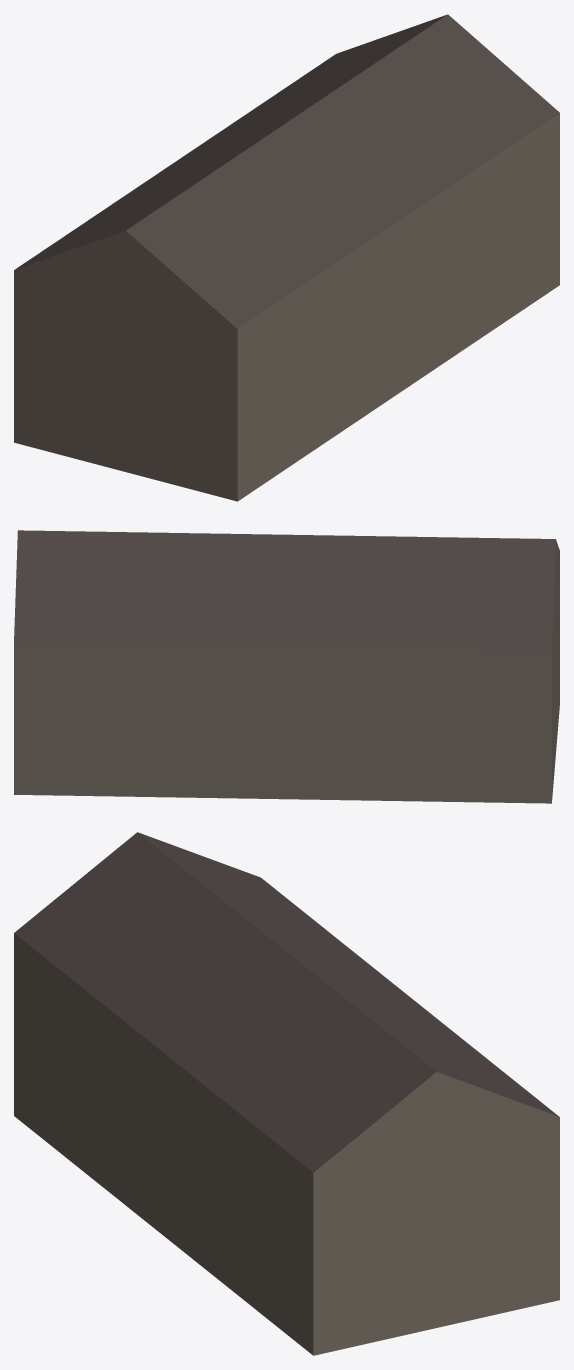
The picture shows the model from 3 angles, top to bottom: view 1: azimuth 30°, elevation 25°; view 2: azimuth 150°, elevation 25°; view 3: azimuth 270°, elevation 25°; orthographic projection. The views are drawn at different scales.
Parts seen in each view (by area): view 1: HP-w859088477; view 2: HP-w859088477; view 3: HP-w859088477.
Boxes of the visible parts, box(x1,y1,x2,y2) form: HP-w859088477: box(14, 14, 559, 501); HP-w859088477: box(14, 530, 559, 803); HP-w859088477: box(14, 832, 559, 1355).
Size of the model in its own units: 20.78 by 8.4 by 16.23.
